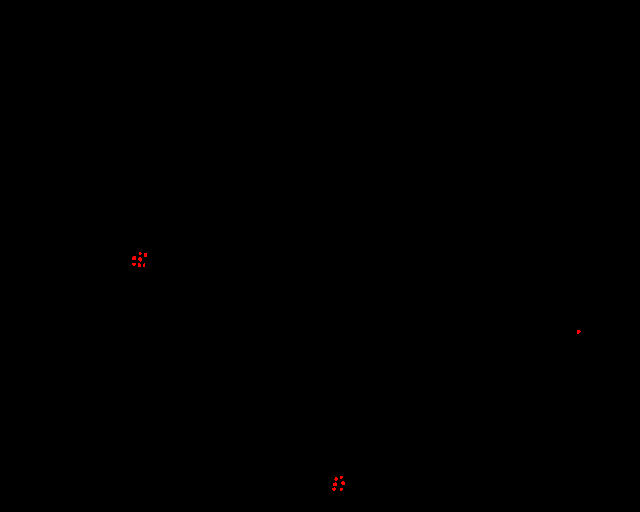Target: (138, 257, 142, 262), (132, 256, 136, 260), (577, 330, 581, 334), (334, 477, 338, 481), (341, 481, 345, 485), (333, 482, 337, 486), (332, 487, 336, 491), (144, 253, 147, 257), (132, 263, 136, 266), (138, 263, 141, 267), (139, 252, 142, 255), (340, 476, 343, 479), (340, 488, 343, 491), (143, 263, 145, 267)
